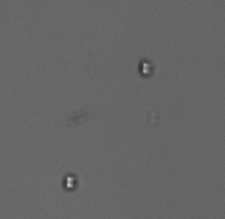Living Cell: (137, 59, 156, 79), (63, 171, 80, 192)
